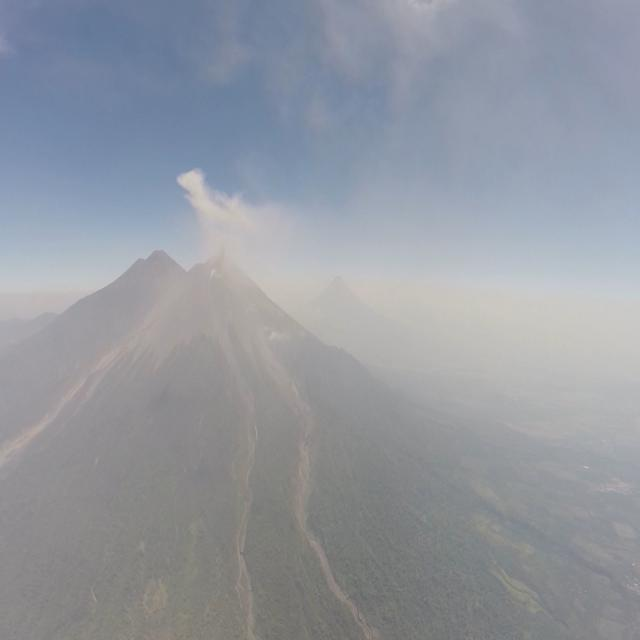Plume: (175, 164, 288, 260)
Summit: (189, 246, 254, 276)
